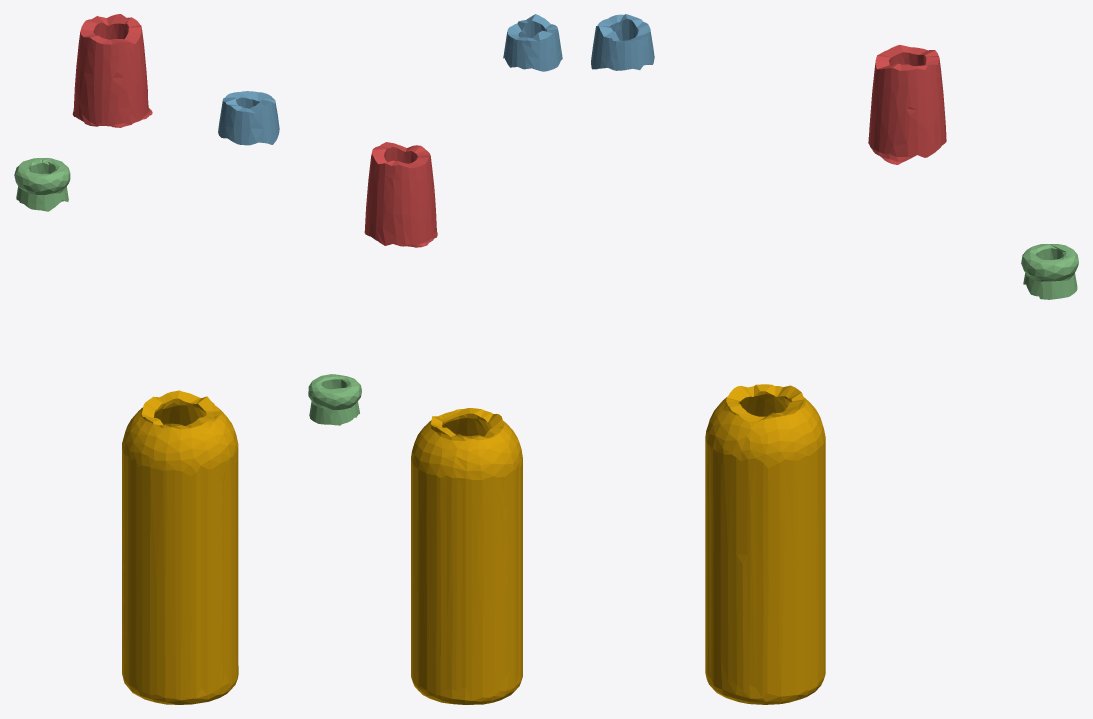
The model's file is fractured_23_4pcs_transformed.glb.
The picture shows the model from 3 angles, left to right: view 1: azimuth 30°, elevation 25°; view 2: azimuth 150°, elevation 25°; view 3: azimuth 270°, elevation 25°; orthographic projection. The views are drawn at different scales.
Parts seen in each view (by area): view 1: piece_0.obj, piece_1.obj, piece_2.obj, piece_3.obj; view 2: piece_0.obj, piece_1.obj, piece_2.obj, piece_3.obj; view 3: piece_0.obj, piece_1.obj, piece_2.obj, piece_3.obj.
Boxes of the visible parts, left/top/right/bottom form: piece_0.obj: left=122, top=390, right=238, bottom=704; piece_1.obj: left=72, top=14, right=152, bottom=127; piece_2.obj: left=218, top=91, right=279, bottom=145; piece_3.obj: left=14, top=158, right=70, bottom=211; piece_0.obj: left=411, top=408, right=522, bottom=704; piece_1.obj: left=364, top=142, right=437, bottom=247; piece_2.obj: left=503, top=14, right=562, bottom=71; piece_3.obj: left=308, top=374, right=361, bottom=425; piece_0.obj: left=705, top=384, right=825, bottom=704; piece_1.obj: left=868, top=45, right=946, bottom=164; piece_2.obj: left=591, top=14, right=654, bottom=70; piece_3.obj: left=1021, top=244, right=1078, bottom=299.
Bounding box in the file's own units: 0.2541 × 1.54 × 1.03.
